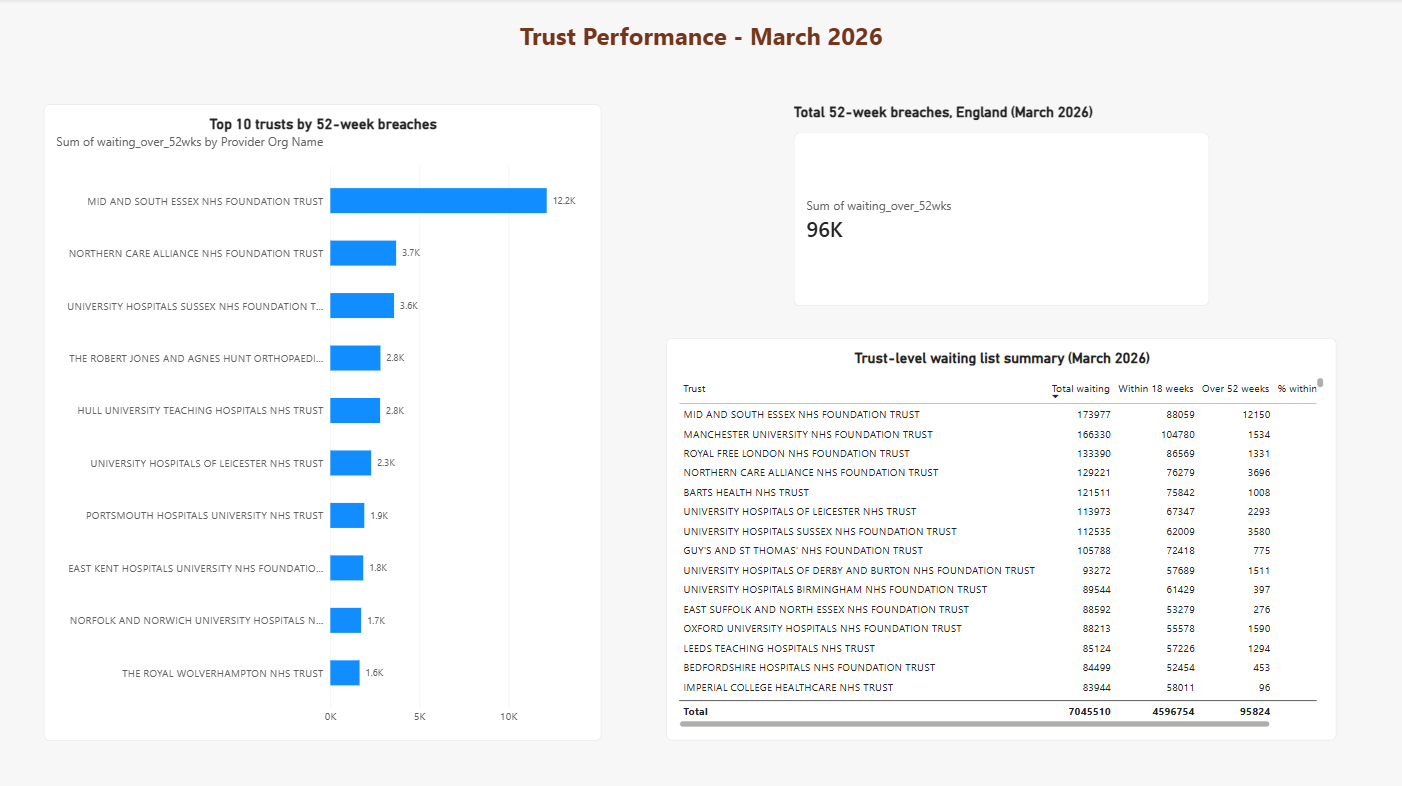

The page's visual inventory and layout, read from the dashboard file:
{"tool":"powerbi","page":{"name":"Trust Performance","canvas":[1920,1080],"ordinal":2},"visuals":[{"type":"textbox","box":[22.6,28.8,1897.8,80.3],"z":0},{"type":"clusteredBarChart","title":"Top 10 trusts by 52-week breaches","fields":{"Category":["rtt_by_trust.Provider Org Name"],"Y":["Sum(rtt_by_trust.waiting_over_52wks)"]},"box":[98.8,142,745.1,850.1],"z":1000},{"type":"tableEx","title":"Trust-level waiting list summary (March 2026)","fields":{"Values":["rtt_by_trust.Provider Org Name","Sum(rtt_by_trust.total_waiting)","Sum(rtt_by_trust.waiting_within_18wks)","Sum(rtt_by_trust.waiting_over_52wks)","Avg(rtt_by_trust.pct_within_18wks)"]},"box":[930.4,454.9,895.4,537.2],"z":2000},{"type":"cardVisual","title":"Total 52-week breaches, England (March 2026)","fields":{"Data":["Sum(rtt_by_trust.waiting_over_52wks)"]},"box":[1101.2,142,555.7,269.6],"z":2001}]}

Visuals, with their boxes in screenshot pixels (x1, y1, x2, y2), scaled from the page's 1920x1080 canvas onto the 1402x786 screenshot:
textbox: <box>17,21,1401,79</box>
"Top 10 trusts by 52-week breaches" clusteredBarChart: <box>72,103,616,722</box>
"Trust-level waiting list summary (March 2026)" tableEx: <box>679,331,1333,722</box>
"Total 52-week breaches, England (March 2026)" cardVisual: <box>804,103,1210,300</box>
